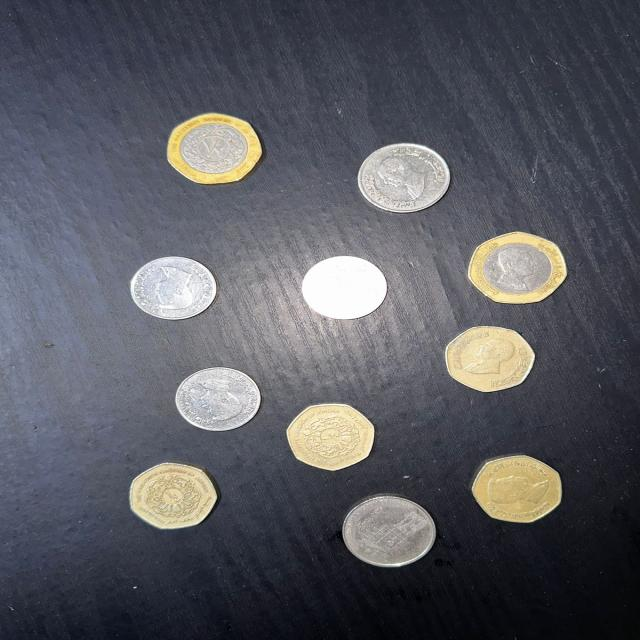10-coins: (340, 495, 438, 568), (356, 143, 451, 214)
25-coins: (127, 462, 221, 531), (284, 403, 376, 472), (470, 455, 562, 524), (444, 326, 536, 393)
5-coins: (130, 255, 218, 321), (175, 367, 263, 433), (301, 256, 388, 320)
50-coins: (162, 110, 271, 190), (468, 230, 567, 306)
